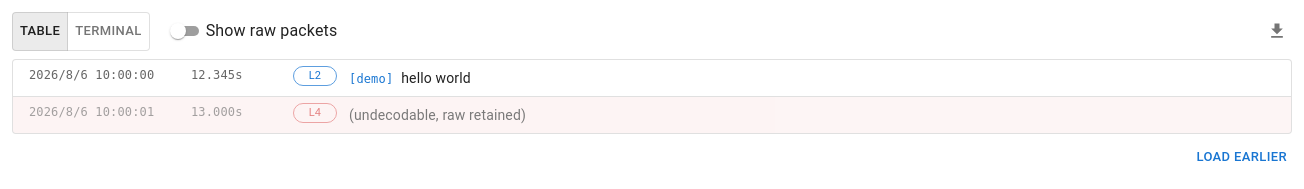
Scenario: LogsView › back to latest resets the cursor to the newest page
The image size is (1304, 189).
What coordinates should you click on to do the following:
click the button "Load earlier"
I would click on:
 (1242, 157)
Its box is 1191,142 -> 1292,173.
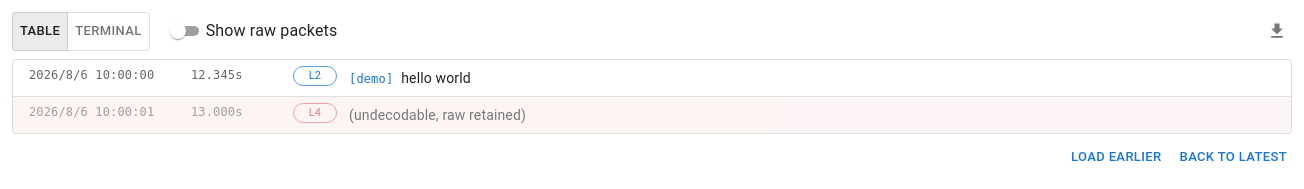
What coordinates should you click on to do the following:
click the button "Back to latest"
I would click on:
 (1233, 157)
Its box is 1174,142 -> 1292,173.
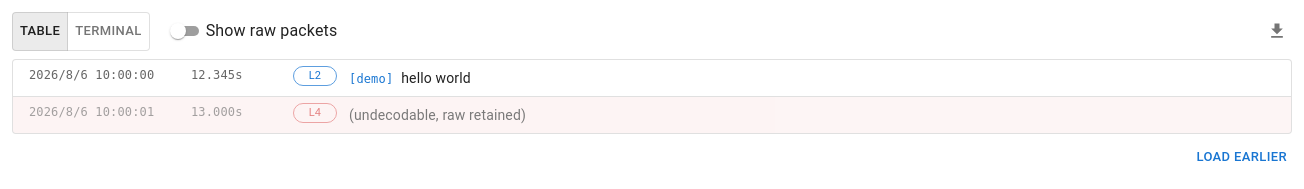
Result: the button "Back to latest" is gone
